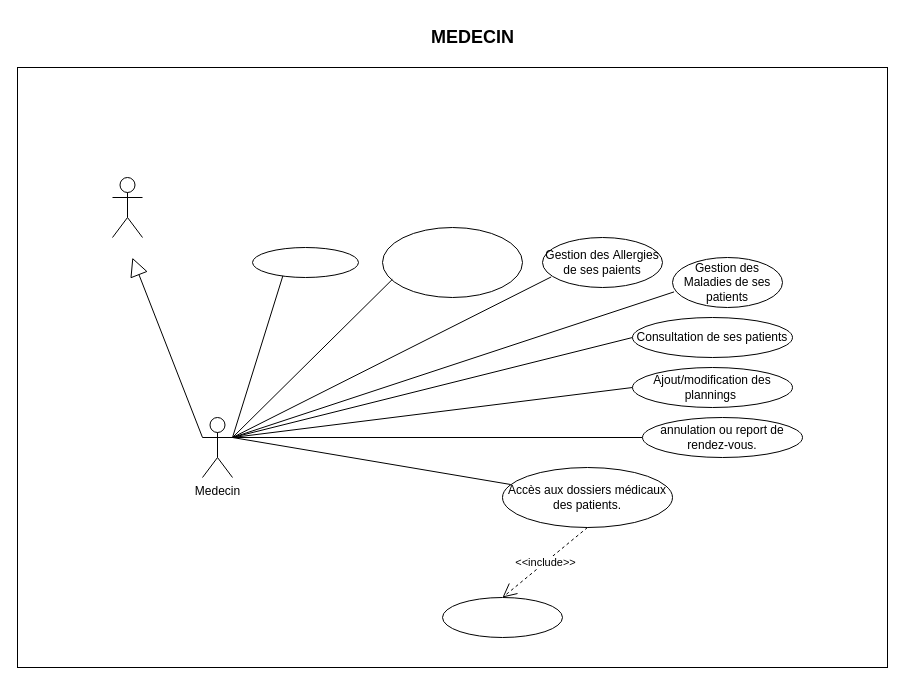
Image size: 905x685. Some labels were removed from this diagram. The shapes that lost their labels are listed below. From the top down, each one's centre as x and y in pixels, then its label:
At point 127,207: "Patient".
At point 305,262: "Gestion de ses RV".
At point 452,262: "Gestion des Résultats d’analyses de ses patients".
At point 502,617: "via le scanne ou la carte nfc".
